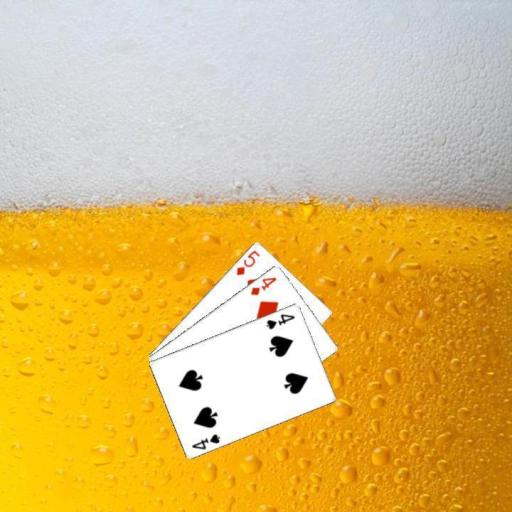card-corner: (233, 246, 261, 276), (263, 310, 297, 331), (188, 430, 222, 451), (248, 274, 278, 296)
